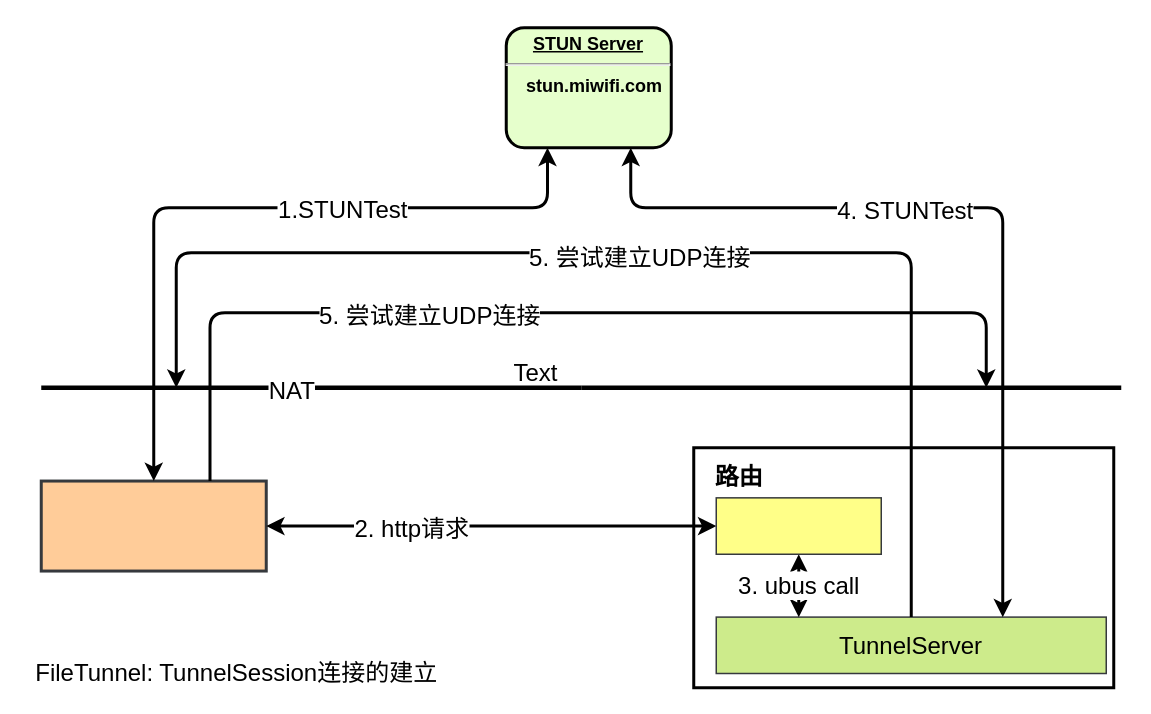
Image size: 1151x714. Some labels were removed from this diagram. Each missing label, with the centre of its shape:
"App TunnelClient" goes at (x=153, y=525).
"HTTPd服务" goes at (x=798, y=525).
